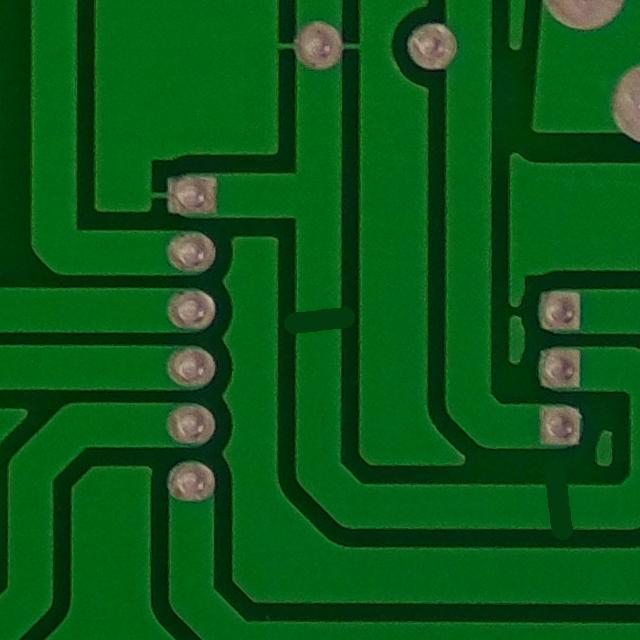open_circuit: (281, 294, 360, 346)
